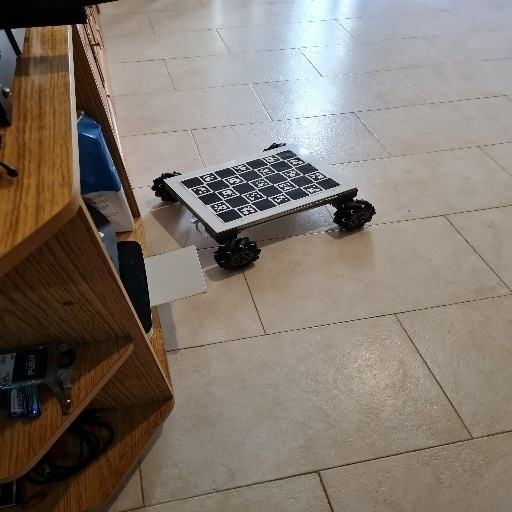Omniwheel: (152, 139, 378, 272)
